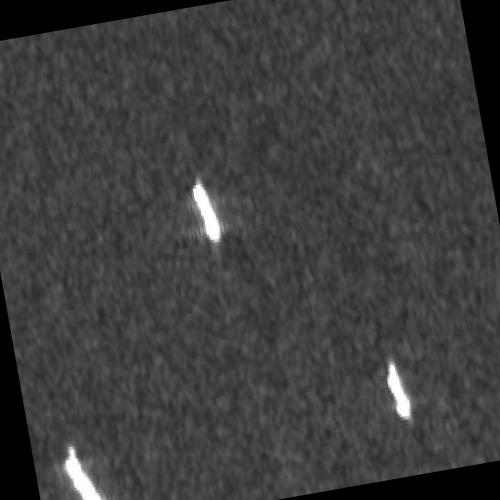ship: (63, 443, 101, 500), (191, 181, 222, 241), (386, 361, 411, 418)
